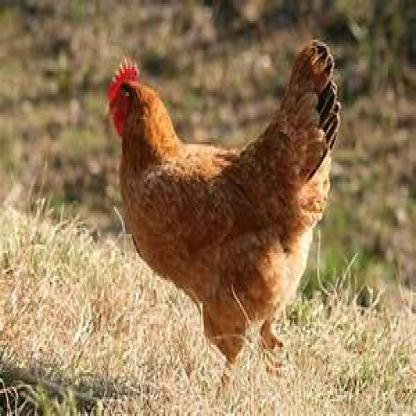chicken: (106, 40, 341, 360)
